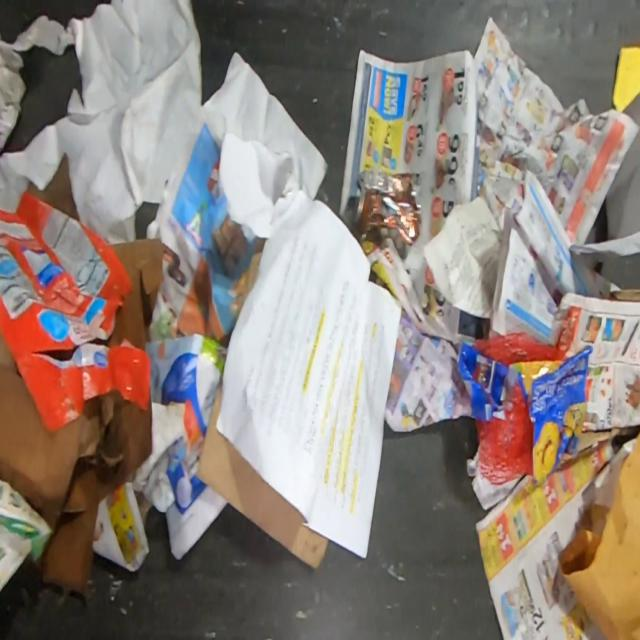cardboard: (0, 335, 151, 603), (197, 379, 330, 571), (88, 238, 164, 350), (26, 151, 80, 221)
metal: (352, 168, 422, 247)
soft_plastic: (0, 189, 151, 433), (458, 304, 594, 486)
